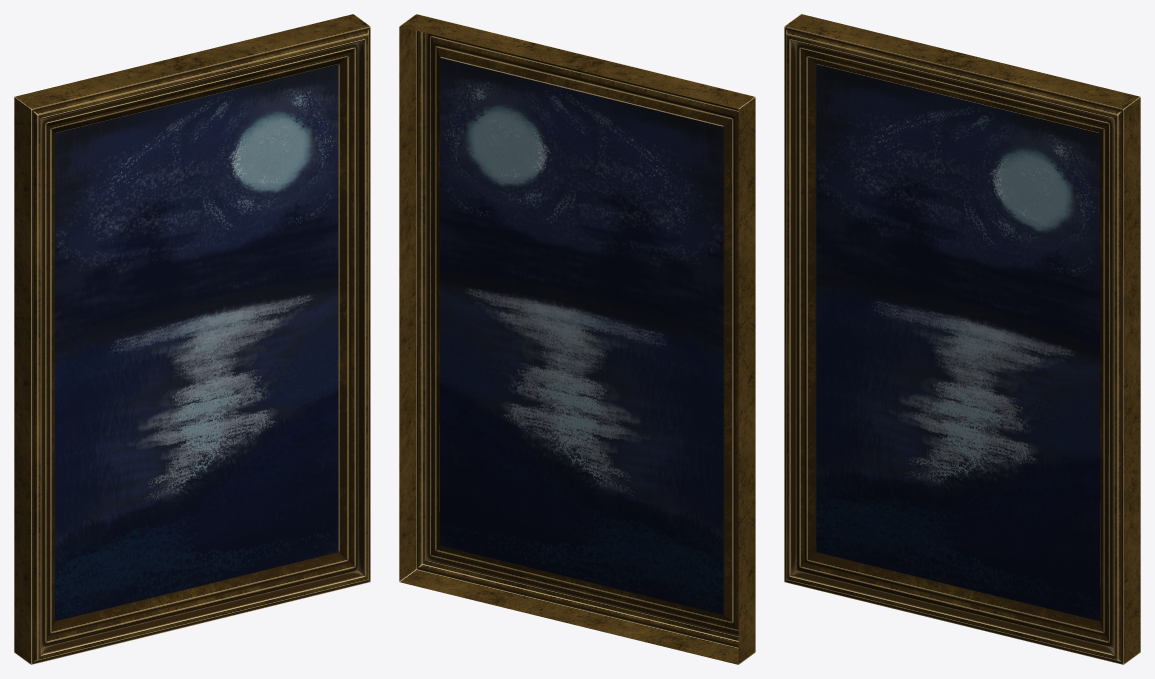
Rendered from Painting-portrait-14.fbx.
3 views of the same model, side by side, from view 1: azimuth 30°, elevation 25°; view 2: azimuth 150°, elevation 25°; view 3: azimuth 330°, elevation 25° (orthographic).
Visible parts, largest first — view 1: Painting_14; view 2: Painting_14; view 3: Painting_14.
Boxes of the visible parts, <box> form: Painting_14: <box>14,14,370,664</box>; Painting_14: <box>399,14,755,664</box>; Painting_14: <box>784,14,1140,664</box>.
Size of the model in its own units: 59.07 by 92.39 by 5.86.
Materials: 2 (2 with a texture image).
